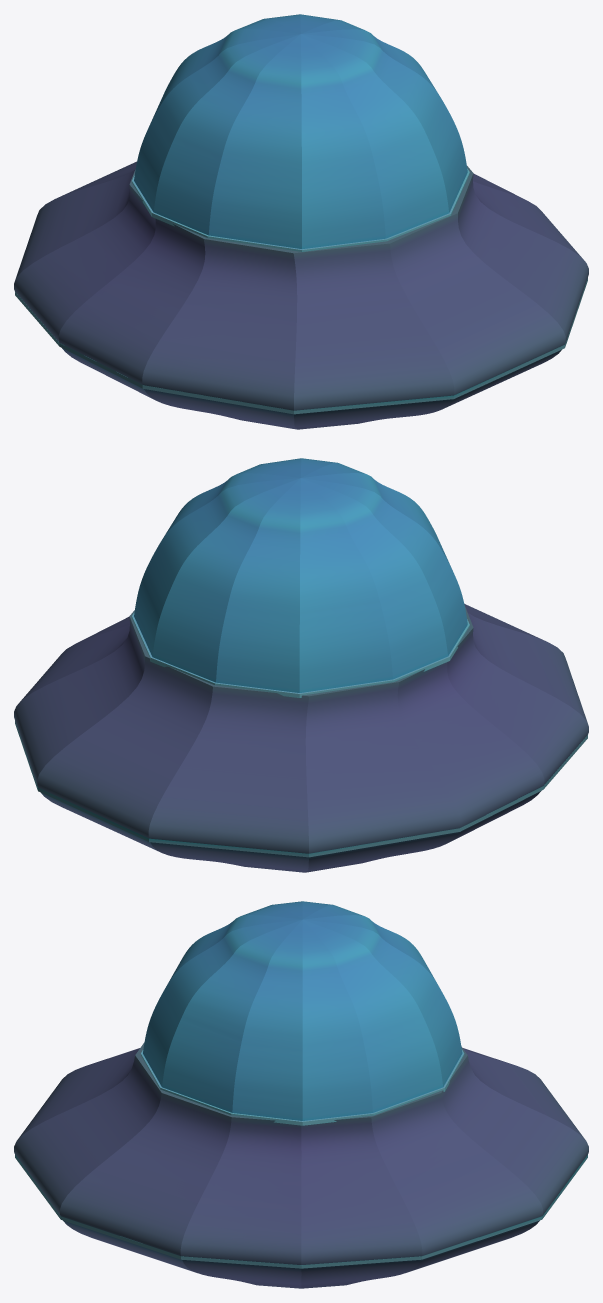
3 renders of one model, top to bottom at view 1: azimuth 30°, elevation 25°; view 2: azimuth 150°, elevation 25°; view 3: azimuth 270°, elevation 25°, orthographic. The views are drawn at different scales.
Parts seen in each view (by area): view 1: brim, dome, edge_lip, foot_band; view 2: brim, dome, edge_lip, foot_band; view 3: brim, dome, edge_lip, foot_band.
Part boxes in pixels (x1,y1,x2,y2): brim: (14,161,588,429); dome: (134,14,467,248); edge_lip: (15,278,587,414); foot_band: (132,168,469,251); brim: (14,604,588,872); dome: (134,458,467,692); edge_lip: (15,721,587,857); foot_band: (132,612,469,697); brim: (14,1042,588,1288); dome: (143,901,462,1120); edge_lip: (15,1155,587,1268); foot_band: (141,1050,464,1125).
Size of the model in its own units: 11.09 by 7.59 by 12.1.
